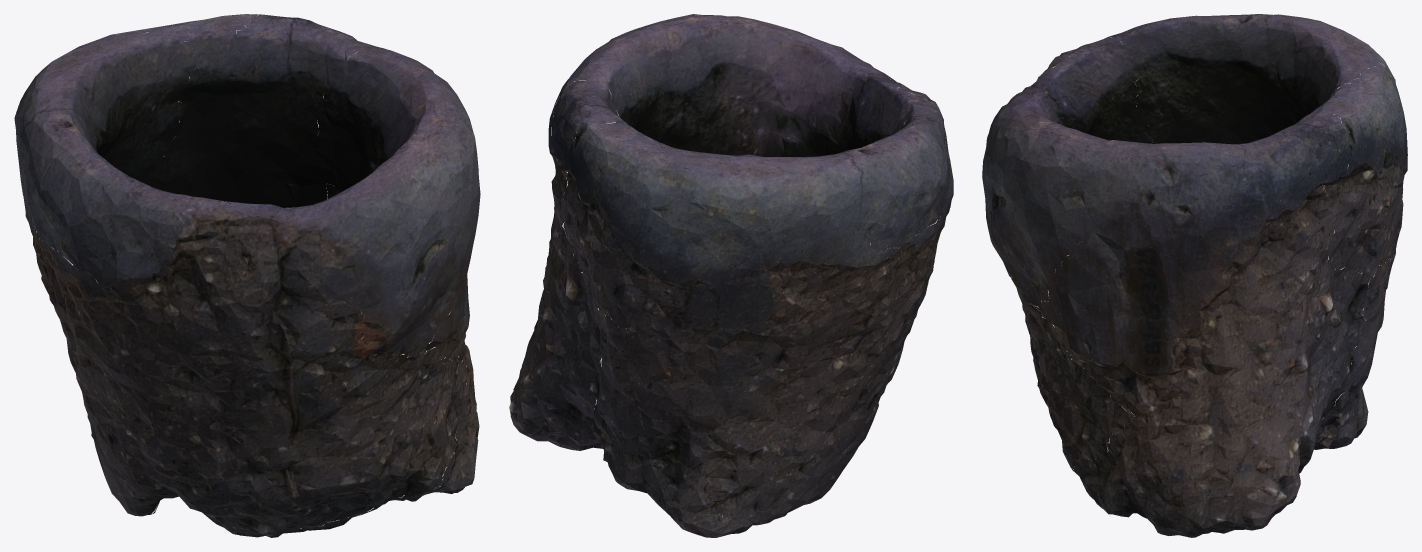
File: Objeto_09_4k-b.glb
3 renders of one model, left to right at view 1: azimuth 30°, elevation 25°; view 2: azimuth 150°, elevation 25°; view 3: azimuth 270°, elevation 25°, orthographic. The views are drawn at different scales.
Parts seen in each view (by area): view 1: Mesh_0; view 2: Mesh_0; view 3: Mesh_0.
Boxes of the visible parts, x1=… form: Mesh_0: x1=14, y1=14, x2=480, y2=537; Mesh_0: x1=509, y1=14, x2=953, y2=537; Mesh_0: x1=982, y1=14, x2=1407, y2=537.
Bounding box in the file's own units: 0.0644 × 0.0622 × 0.0624.
1 material, 1 textured.
